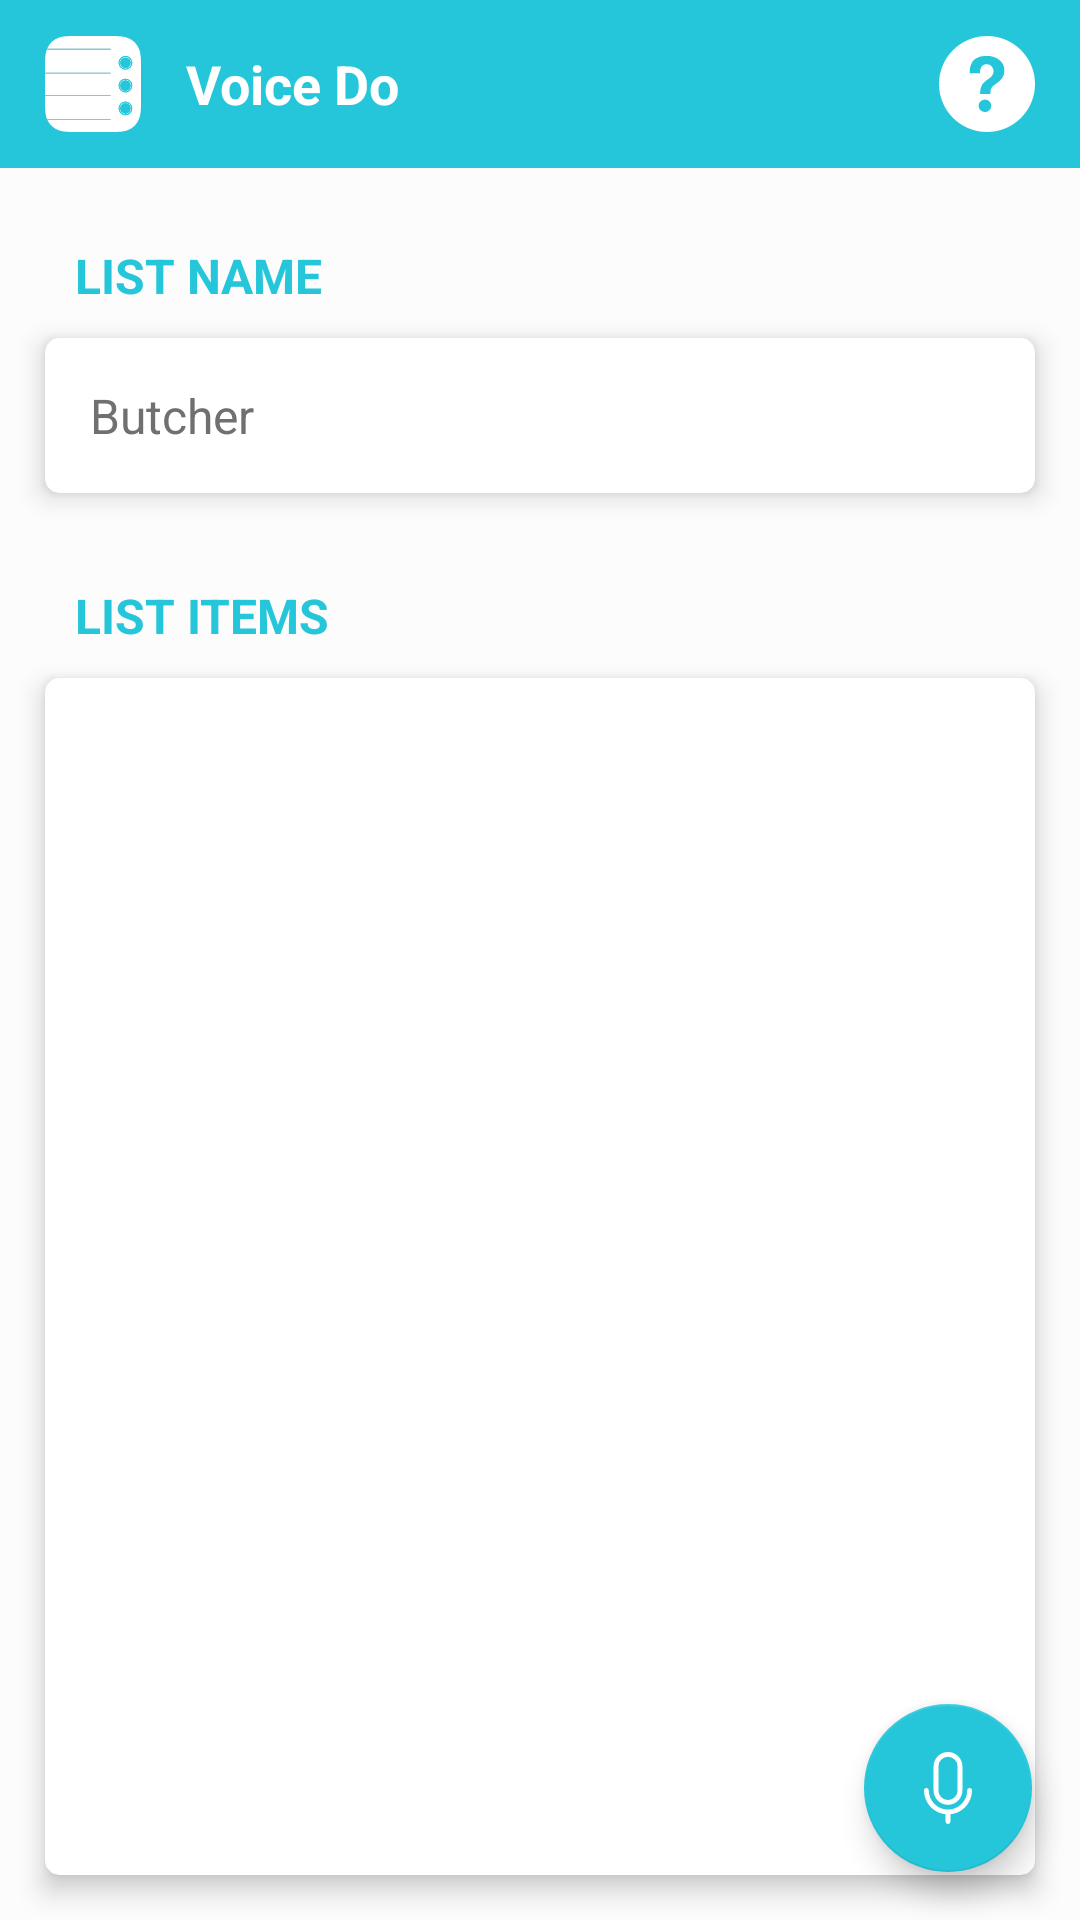

Named icons in this screenshot (1080px x 1920px) and their bounding boxes, [x1, y1, x2, y2]:
help: [939, 36, 1035, 132]
Micrófono: [864, 1704, 1032, 1872]
